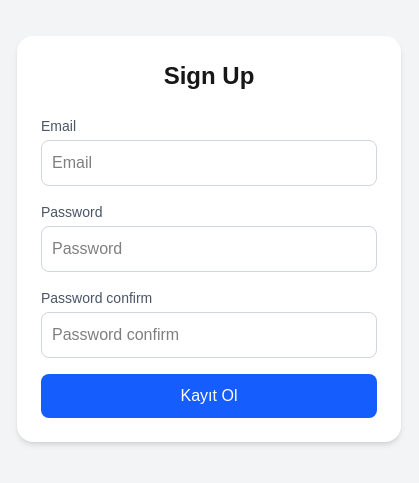
Test case: signupForm › password confirm eşleşmiyorsa hata gösterir
Type "test@test.com" into the field with placeholder "Email" at [209, 163], box [41, 140, 377, 186]
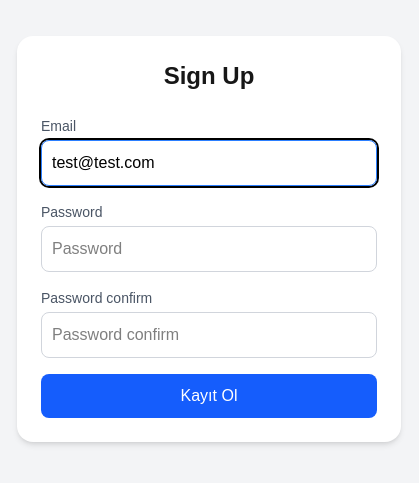
Type "123456" into the password field with placeholder "Password" at [209, 249], box [41, 226, 377, 272]
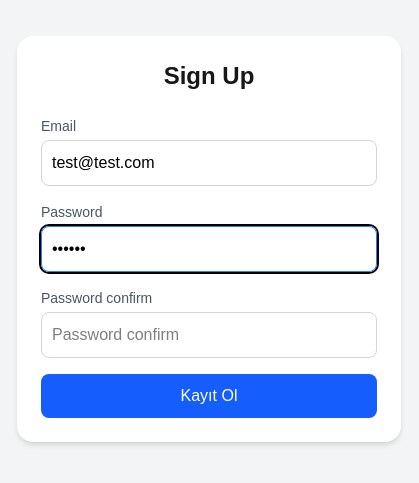
Type "654321" into the password field with placeholder "Password confirm" at [209, 335], box [41, 312, 377, 358]
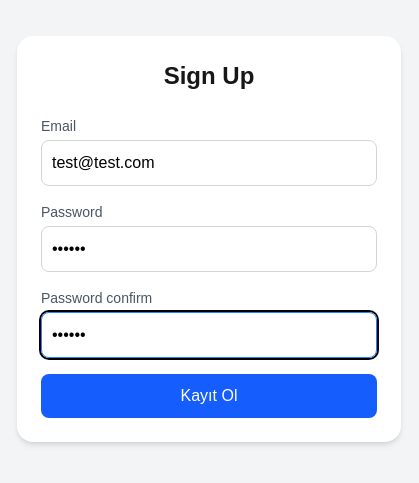
Click the button "Kayıt Ol" at [209, 396], box [41, 374, 377, 418]
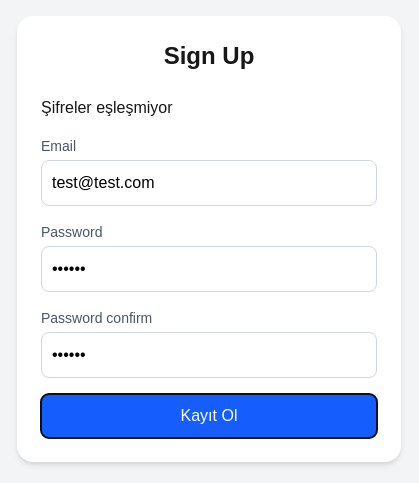
Result: the message reads "Şifreler eşleşmiyor" at [41, 99, 173, 116]
